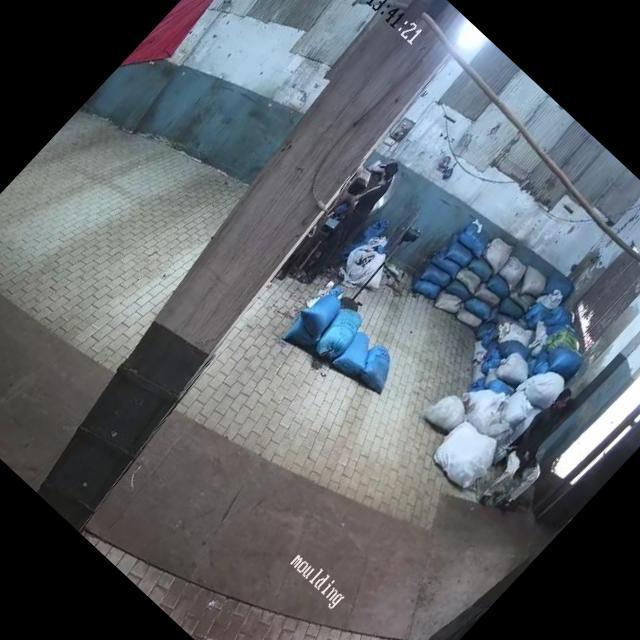person: (292, 160, 415, 288), (476, 389, 596, 514)
